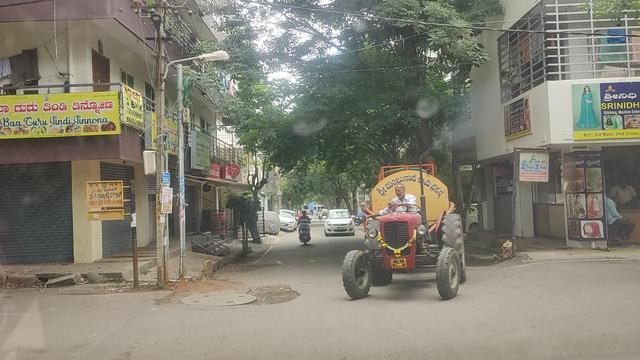HMV: (347, 166, 463, 300)
RoadDamages: (187, 284, 306, 314)
